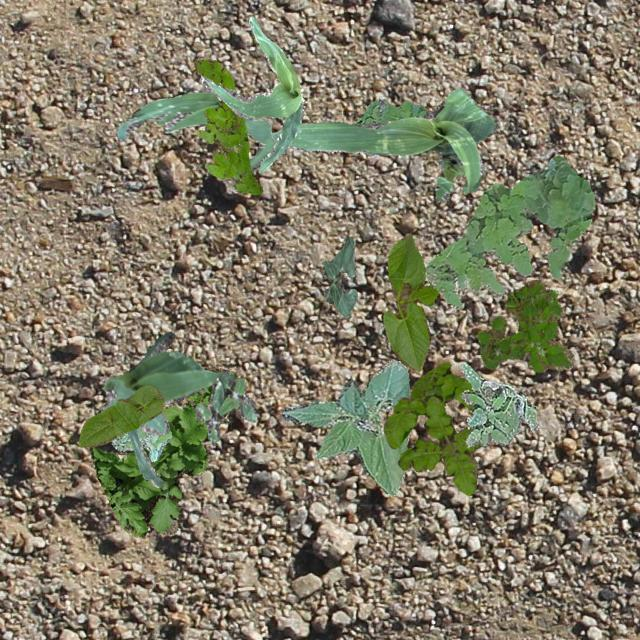crop: (270, 88, 498, 200), (100, 331, 254, 486), (280, 358, 410, 496), (198, 15, 304, 172), (116, 88, 276, 172), (382, 232, 438, 370), (78, 384, 164, 446), (322, 236, 356, 316)
weed: (424, 154, 594, 308), (90, 366, 236, 536), (382, 362, 480, 494), (192, 58, 262, 194), (476, 278, 572, 371), (460, 362, 538, 447), (194, 374, 256, 444), (110, 426, 170, 462), (352, 98, 426, 124)
